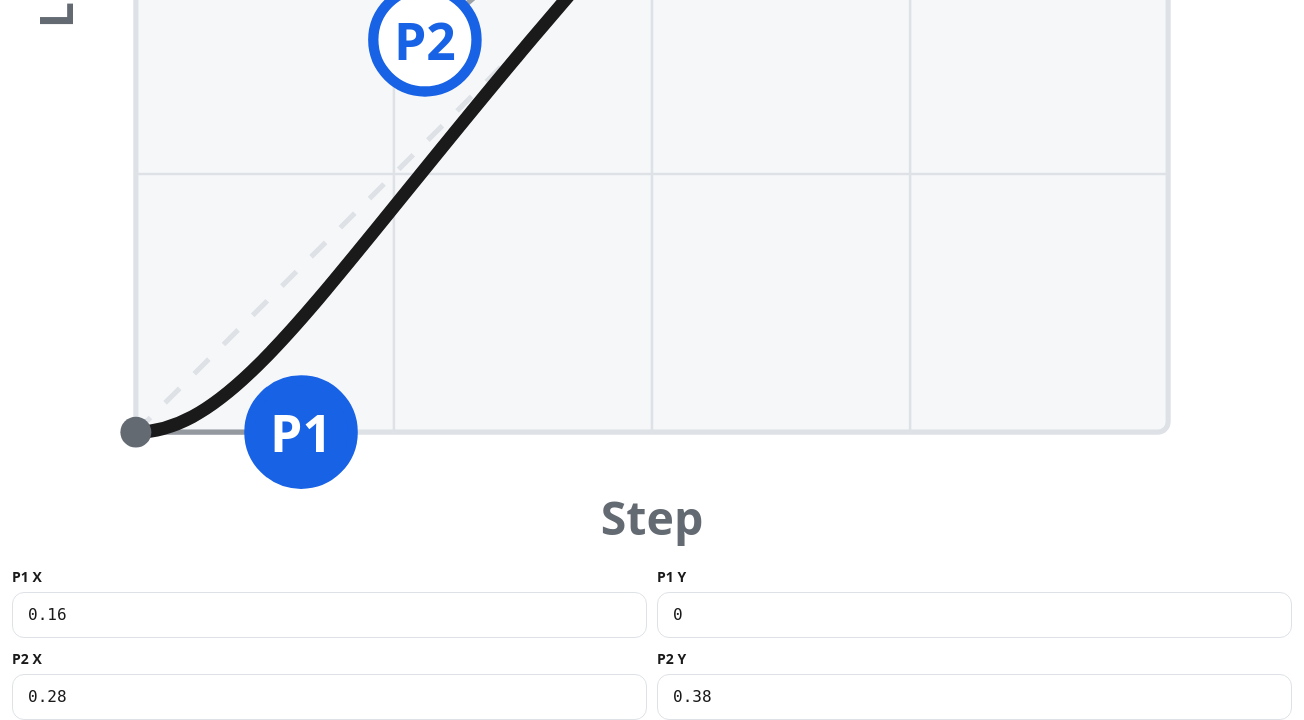
BezierEditor › Coordinate Inputs › restores displayed value on blur after clearing input
(page scrolled)
Clear the number field named "p1 x coordinate" at (330, 615), box top-left (12, 592), bottom-right (647, 638)
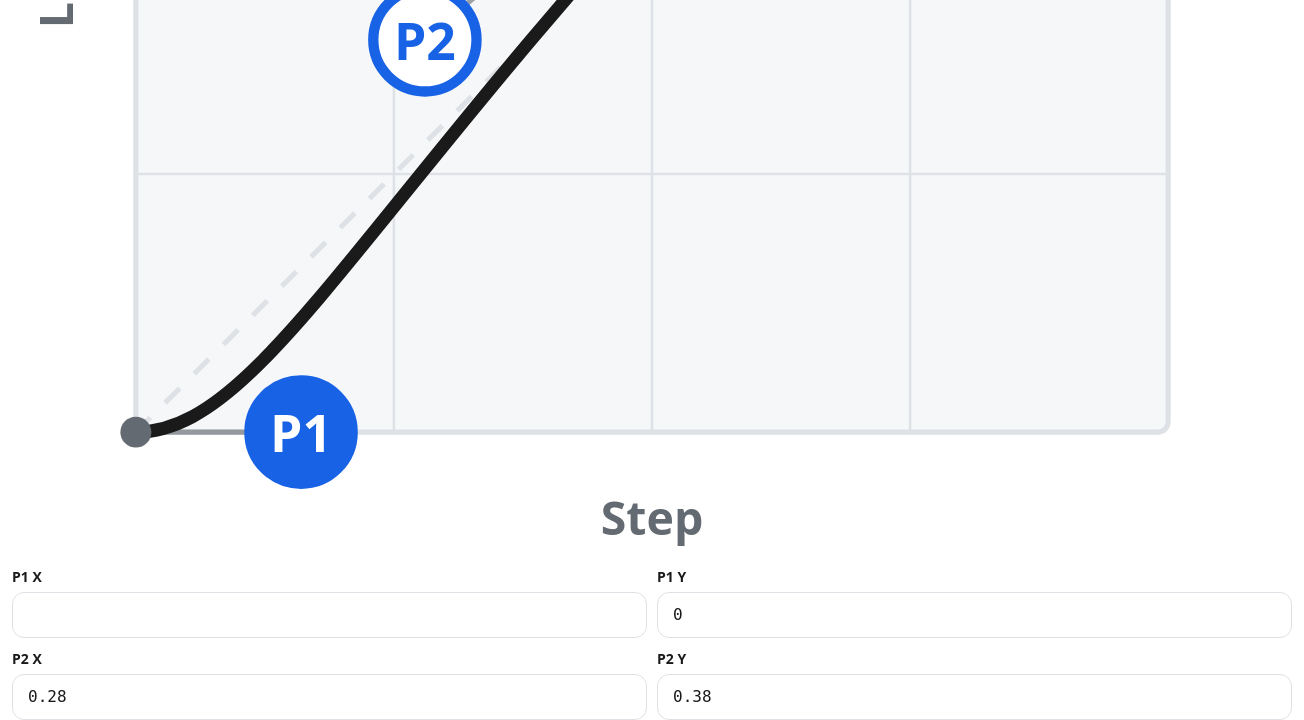
Leave the number field named "p1 x coordinate", box top-left (12, 592), bottom-right (647, 638)
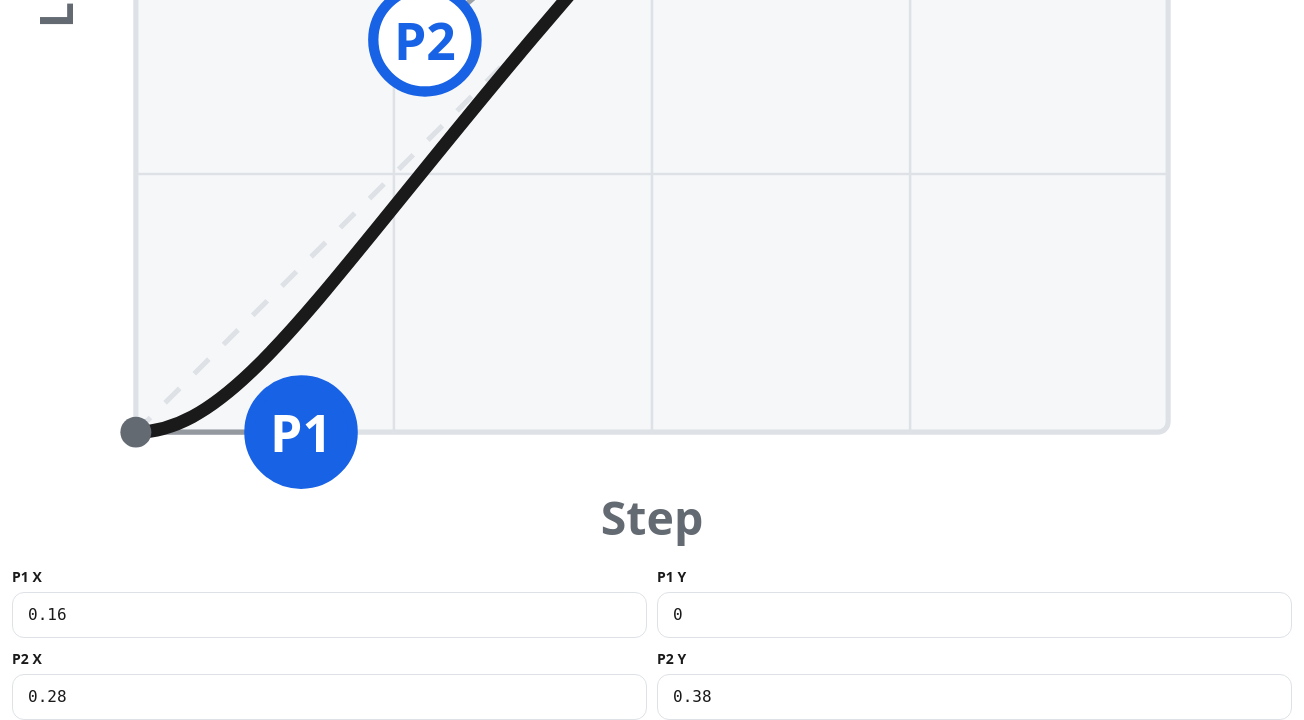
Now the number field named "p1 x coordinate" holds "0.16", box top-left (12, 592), bottom-right (647, 638)
